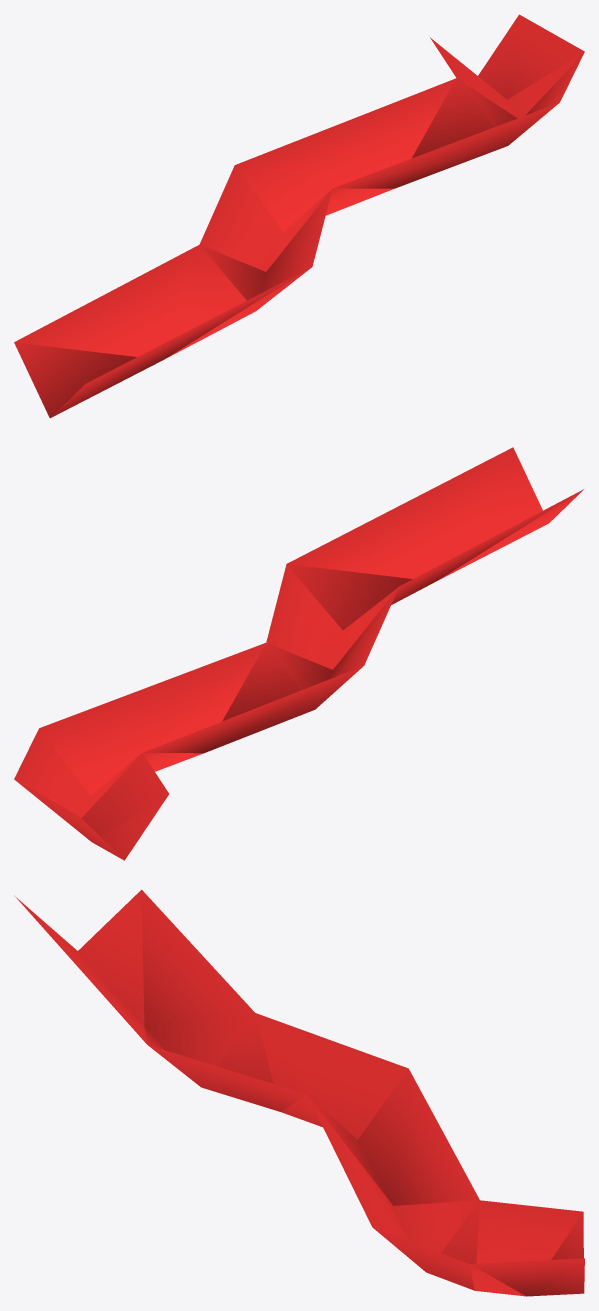
The model's file is VFX_Crack1.fbx.
3 renders of one model, top to bottom at view 1: azimuth 30°, elevation 25°; view 2: azimuth 210°, elevation 25°; view 3: azimuth 270°, elevation 25°, orthographic. The views are drawn at different scales.
Parts seen in each view (by area): view 1: polySurface1; view 2: polySurface1; view 3: polySurface1.
Part boxes in pixels (box(x1,y1,x2,y2)): polySurface1: box(14, 14, 584, 418); polySurface1: box(14, 447, 583, 860); polySurface1: box(14, 889, 584, 1296).
Size of the model in its own units: 2036 by 149 by 1312.
